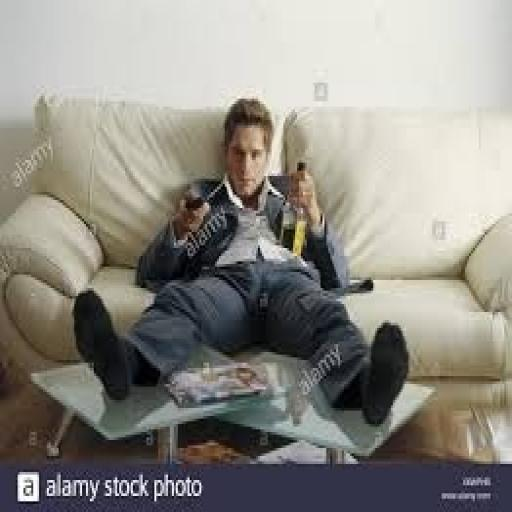sitting: (70, 91, 410, 429)
